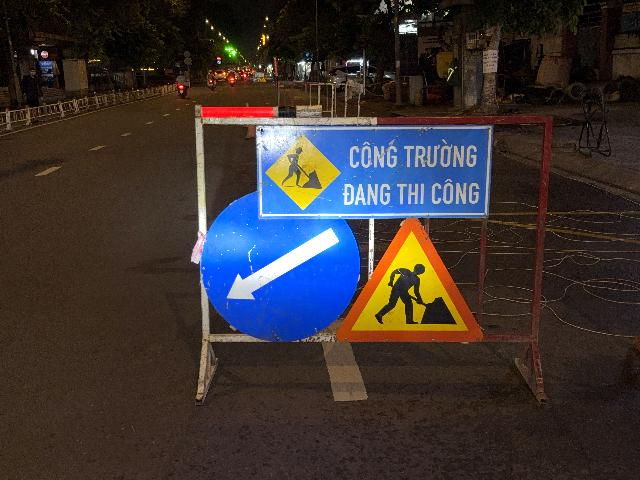cong-truong-dang-thi-cong: (336, 216, 484, 343)
huong-phai-di-vong-chuong-ngai-vat: (199, 190, 360, 343)
